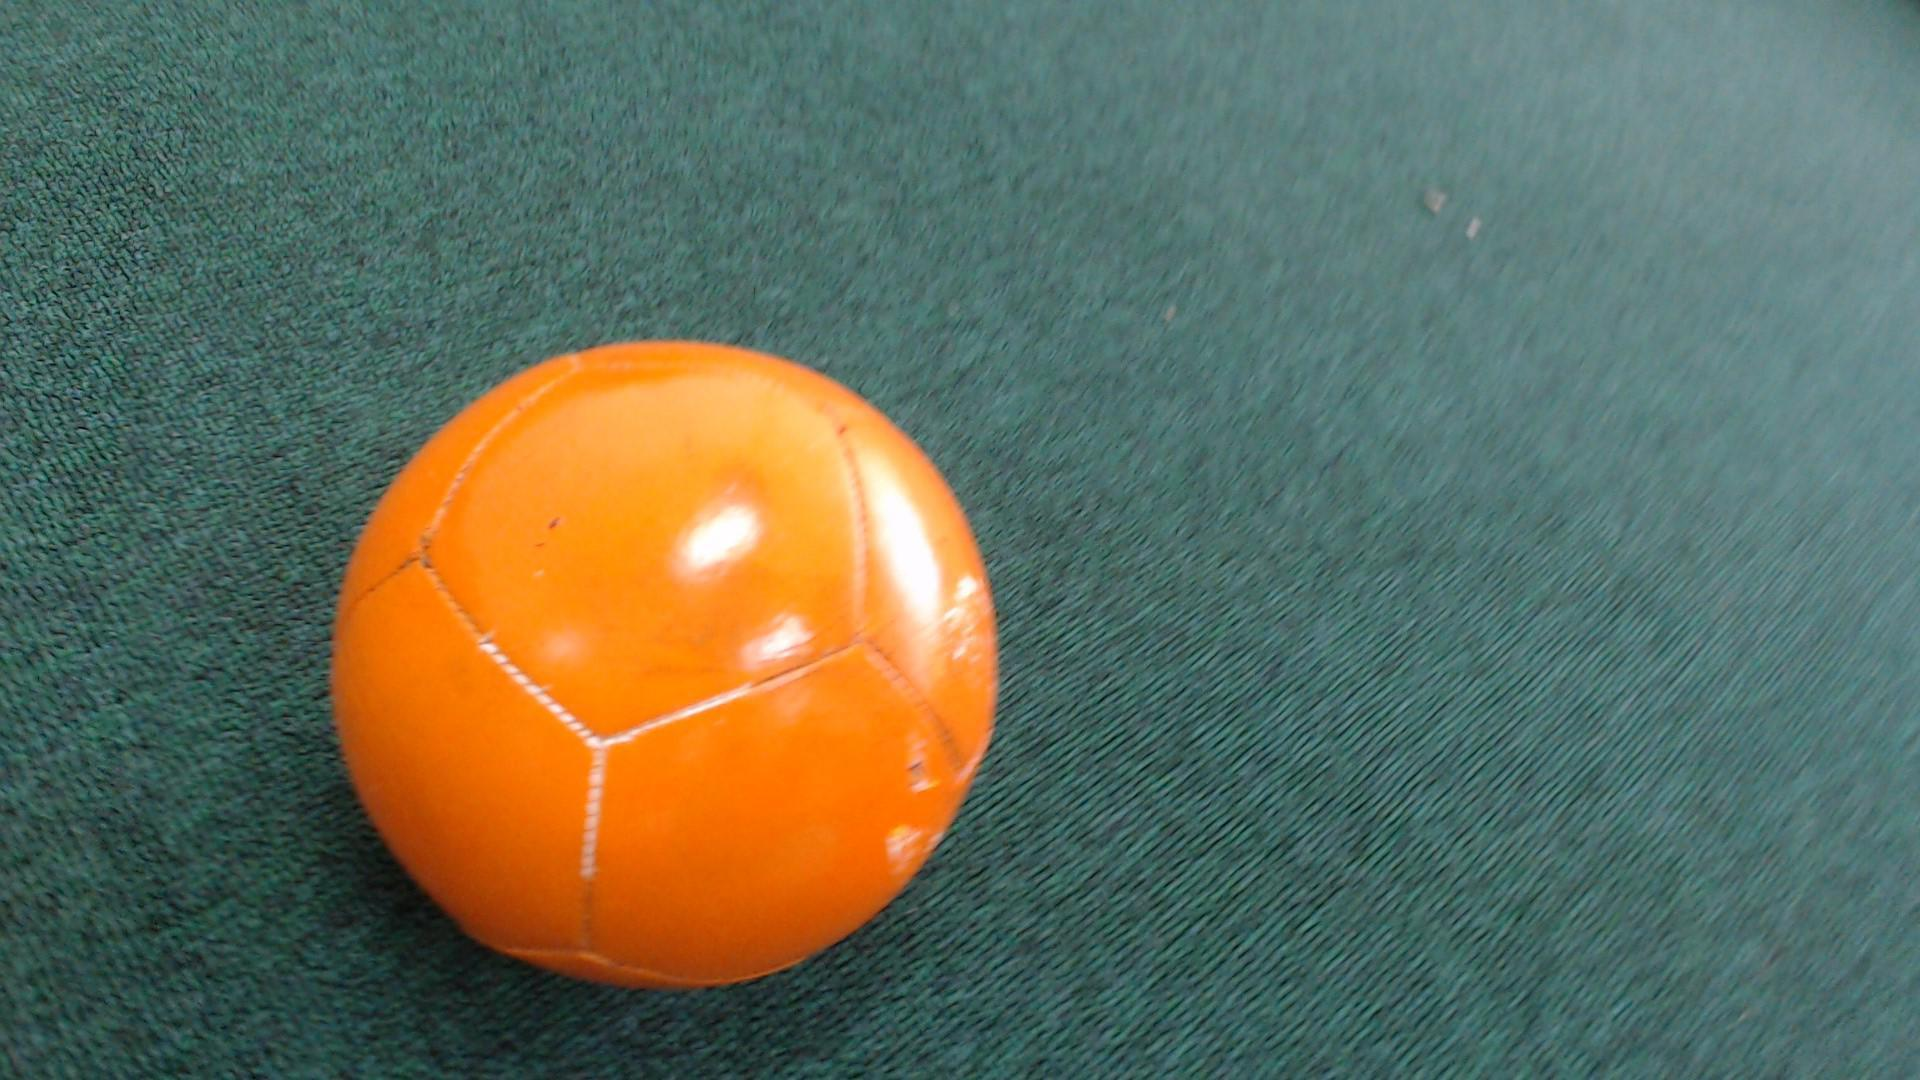bola: (298, 309, 1072, 1039)
